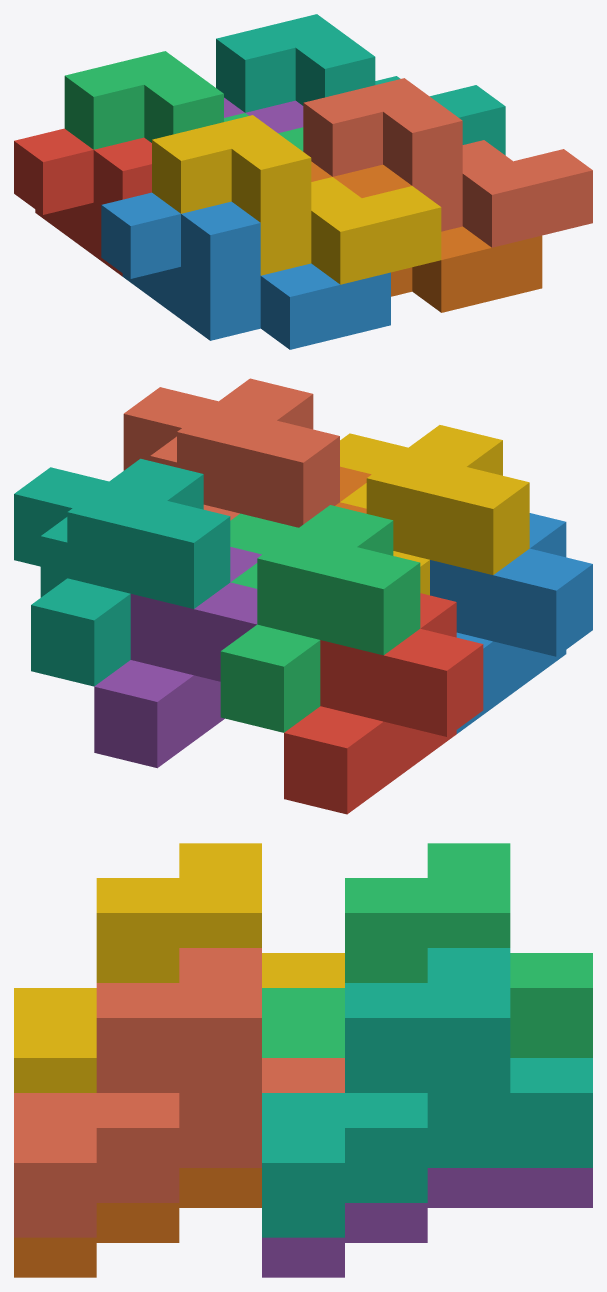
Rendered from tiling.obj.
The picture shows the model from 3 angles, top to bottom: view 1: azimuth 30°, elevation 25°; view 2: azimuth 150°, elevation 25°; view 3: azimuth 270°, elevation 25°; orthographic projection. The views are drawn at different scales.
Visible parts, largest first — view 1: copy_1_domain_4, copy_1_domain_2, copy_1_domain_8, copy_1_domain_7, copy_1_domain_3, copy_1_domain_1, copy_1_domain_6, copy_1_domain_5; view 2: copy_1_domain_7, copy_1_domain_3, copy_1_domain_1, copy_1_domain_8, copy_1_domain_4, copy_1_domain_5, copy_1_domain_2, copy_1_domain_6; view 3: copy_1_domain_7, copy_1_domain_8, copy_1_domain_3, copy_1_domain_4, copy_1_domain_5, copy_1_domain_6.
Boxes of the visible parts, x1=… form: copy_1_domain_4: x1=152, y1=115, x2=441, y2=284; copy_1_domain_2: x1=101, y1=192, x2=390, y2=349; copy_1_domain_8: x1=303, y1=78, x2=592, y2=247; copy_1_domain_7: x1=216, y1=14, x2=505, y2=155; copy_1_domain_3: x1=64, y1=51, x2=303, y2=151; copy_1_domain_1: x1=14, y1=128, x2=151, y2=276; copy_1_domain_6: x1=311, y1=161, x2=542, y2=312; copy_1_domain_5: x1=224, y1=97, x2=303, y2=133; copy_1_domain_7: x1=14, y1=458, x2=230, y2=686; copy_1_domain_3: x1=220, y1=505, x2=420, y2=732; copy_1_domain_1: x1=284, y1=593, x2=483, y2=814; copy_1_domain_8: x1=123, y1=378, x2=339, y2=527; copy_1_domain_4: x1=340, y1=425, x2=529, y2=595; copy_1_domain_5: x1=94, y1=547, x2=261, y2=768; copy_1_domain_2: x1=430, y1=513, x2=592, y2=733; copy_1_domain_6: x1=335, y1=466, x2=371, y2=513; copy_1_domain_7: x1=262, y1=948, x2=592, y2=1237; copy_1_domain_8: x1=14, y1=948, x2=344, y2=1237; copy_1_domain_3: x1=262, y1=843, x2=592, y2=1057; copy_1_domain_4: x1=14, y1=843, x2=344, y2=1092; copy_1_domain_5: x1=262, y1=1168, x2=592, y2=1277; copy_1_domain_6: x1=14, y1=1168, x2=261, y2=1277.
Bounding box in the file's own units: 8 × 3 × 7.
